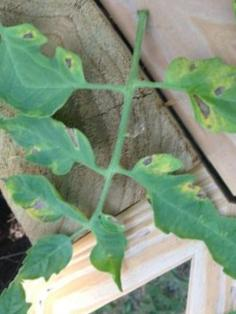Tomato Early blight leaf: (109, 138, 228, 248), (0, 91, 107, 196), (149, 31, 236, 159), (62, 205, 158, 303), (0, 155, 88, 240)
Tomato leaf: (9, 221, 82, 298)
